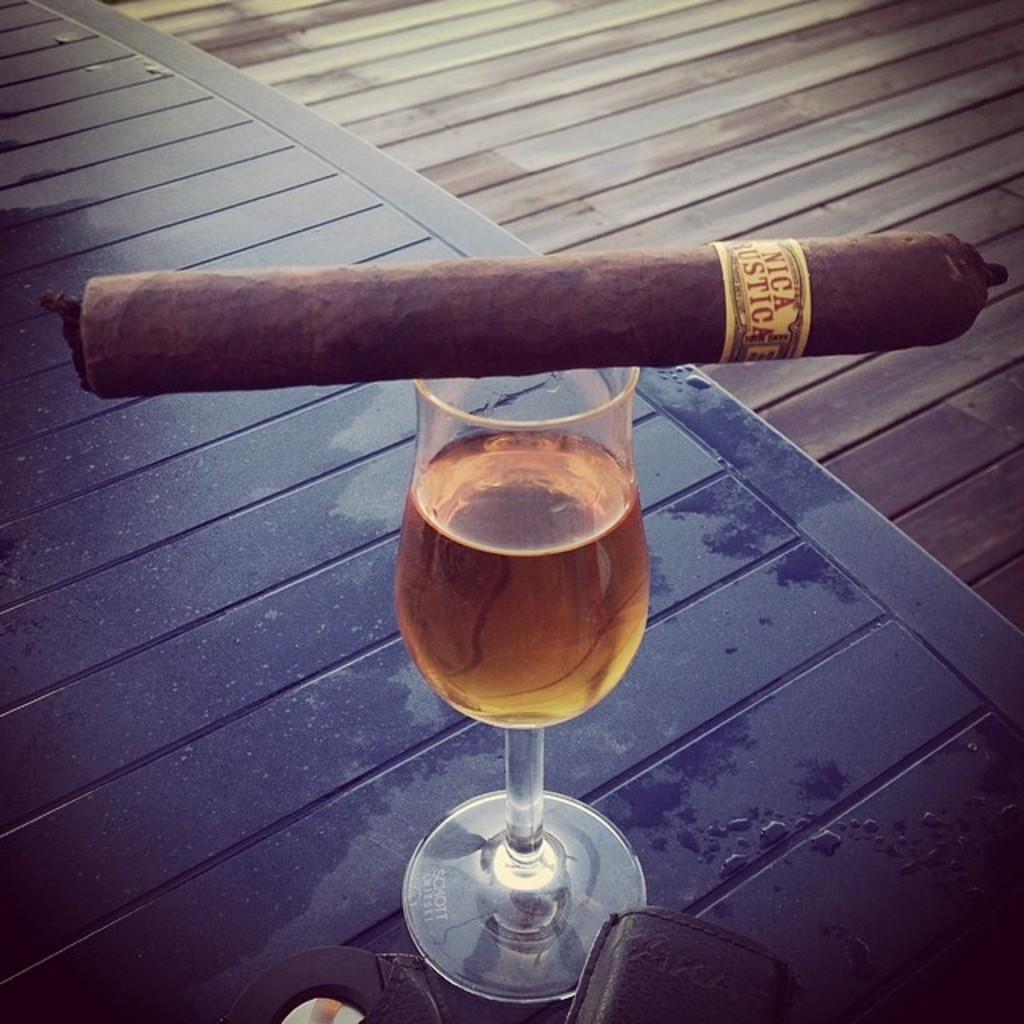Beer: (388, 427, 646, 734)
